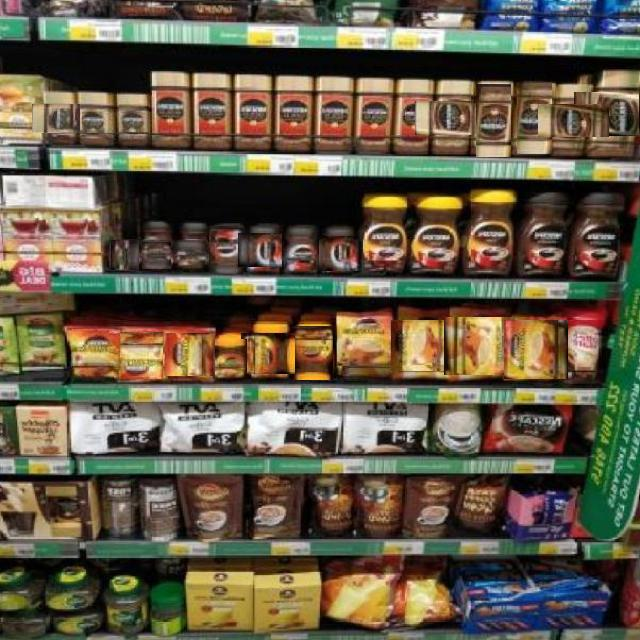Coffee: (444, 317, 515, 375), (505, 320, 568, 379), (337, 312, 391, 380), (389, 320, 459, 371), (574, 92, 640, 136), (475, 83, 511, 157), (415, 100, 491, 135), (517, 82, 552, 154), (538, 104, 609, 137), (241, 333, 295, 374), (72, 328, 114, 380), (293, 326, 333, 380), (165, 333, 215, 376), (120, 332, 163, 379), (282, 227, 319, 276), (315, 235, 363, 271), (208, 225, 243, 274), (239, 233, 288, 267), (81, 92, 110, 146), (33, 103, 85, 133), (119, 95, 149, 147), (216, 339, 247, 379), (109, 240, 139, 270), (177, 241, 206, 271), (141, 241, 171, 269)
